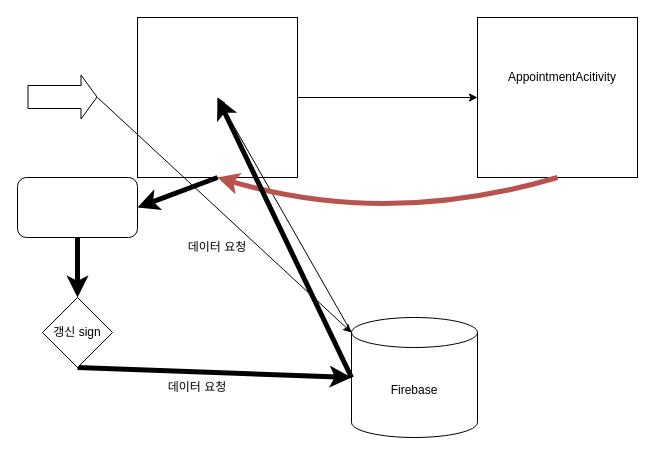
Some shapes in this 655 by 455 pixel diagram are drawn without their labels. Each missing label, with the box of its shape:
onActiviyResult: (16, 176, 138, 238)
PlanFragmen t: (136, 16, 298, 178)
